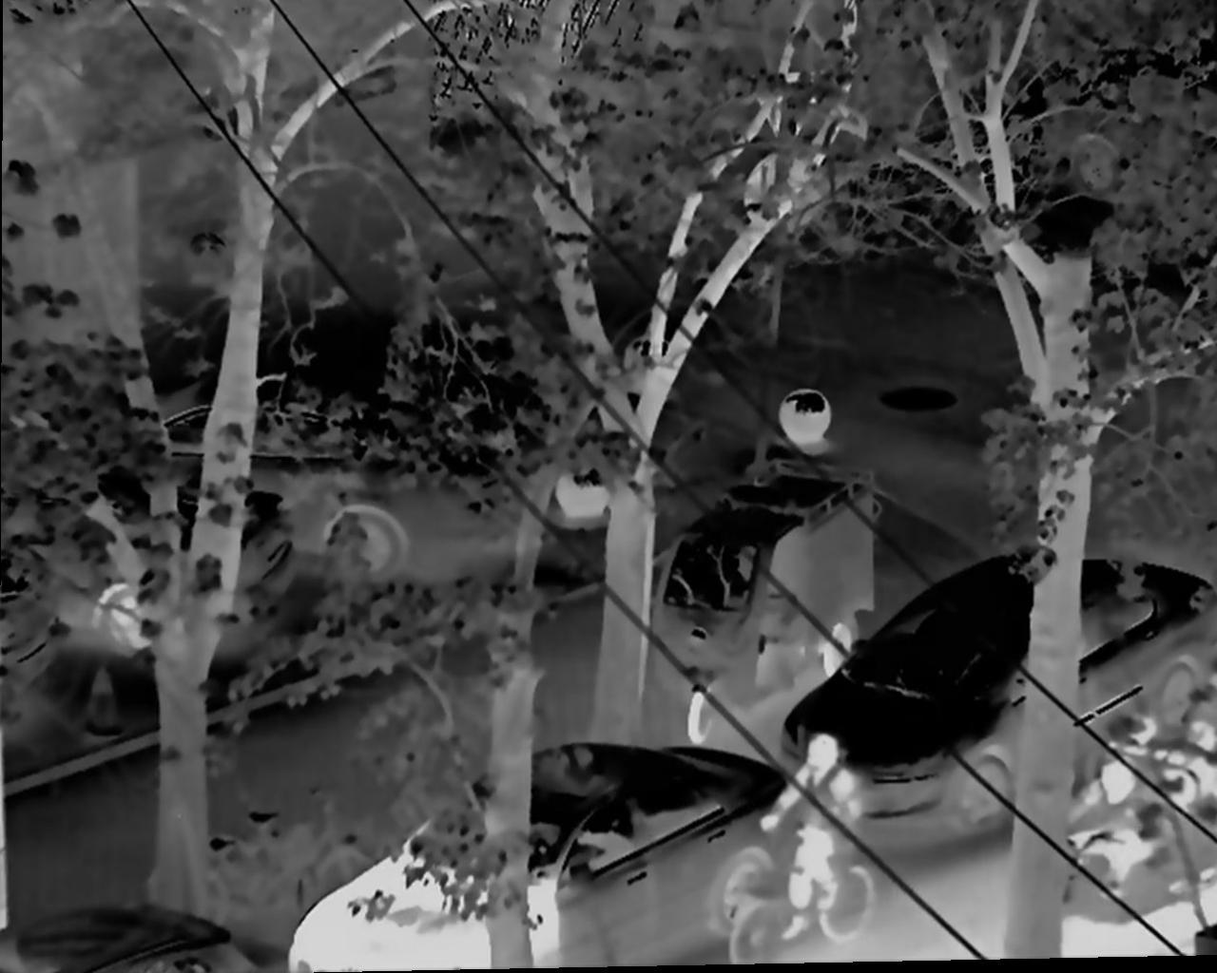person: (756, 727, 860, 930)
